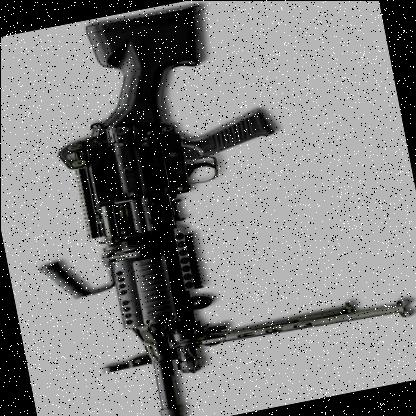rifle: (6, 0, 336, 416)
